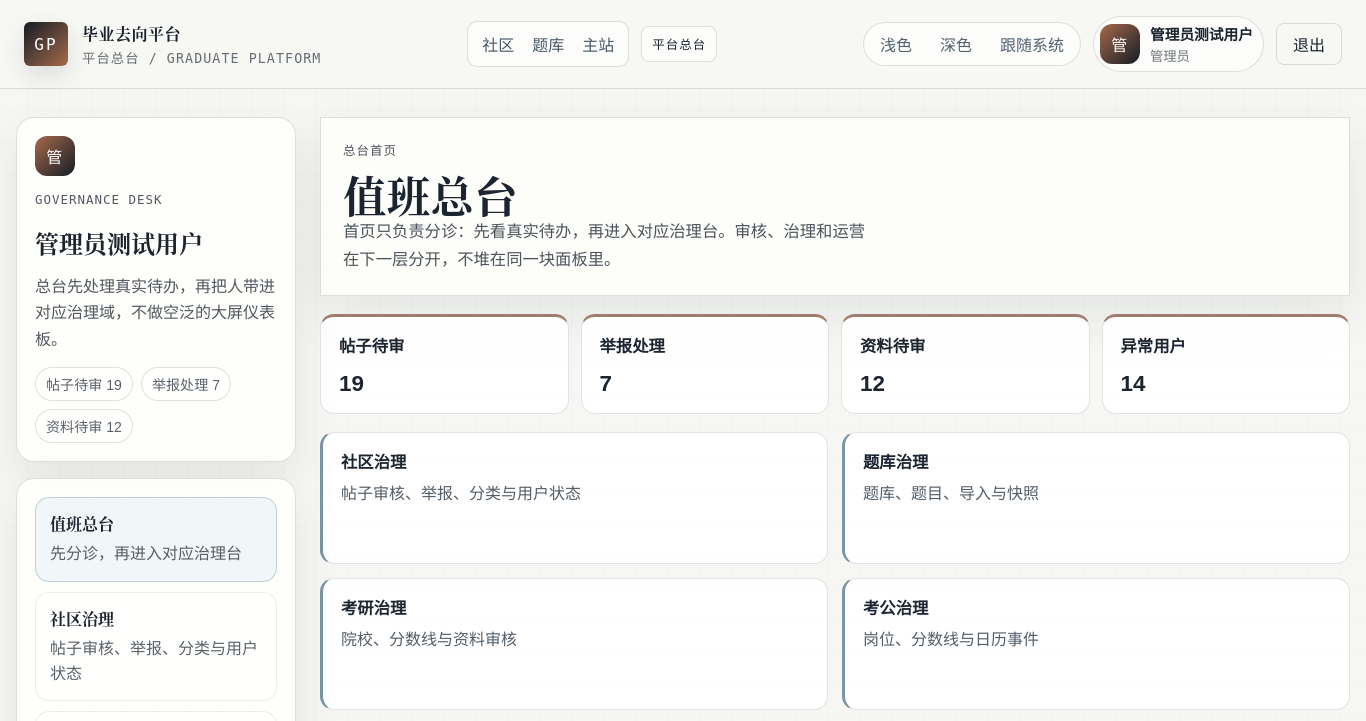
Test: frontendv1 role auth dialog flow › returns to the guest station after clicking logout from a preview role
Step 1. Click the button "退出" → (1309, 44), box 1276,23 -> 1342,65
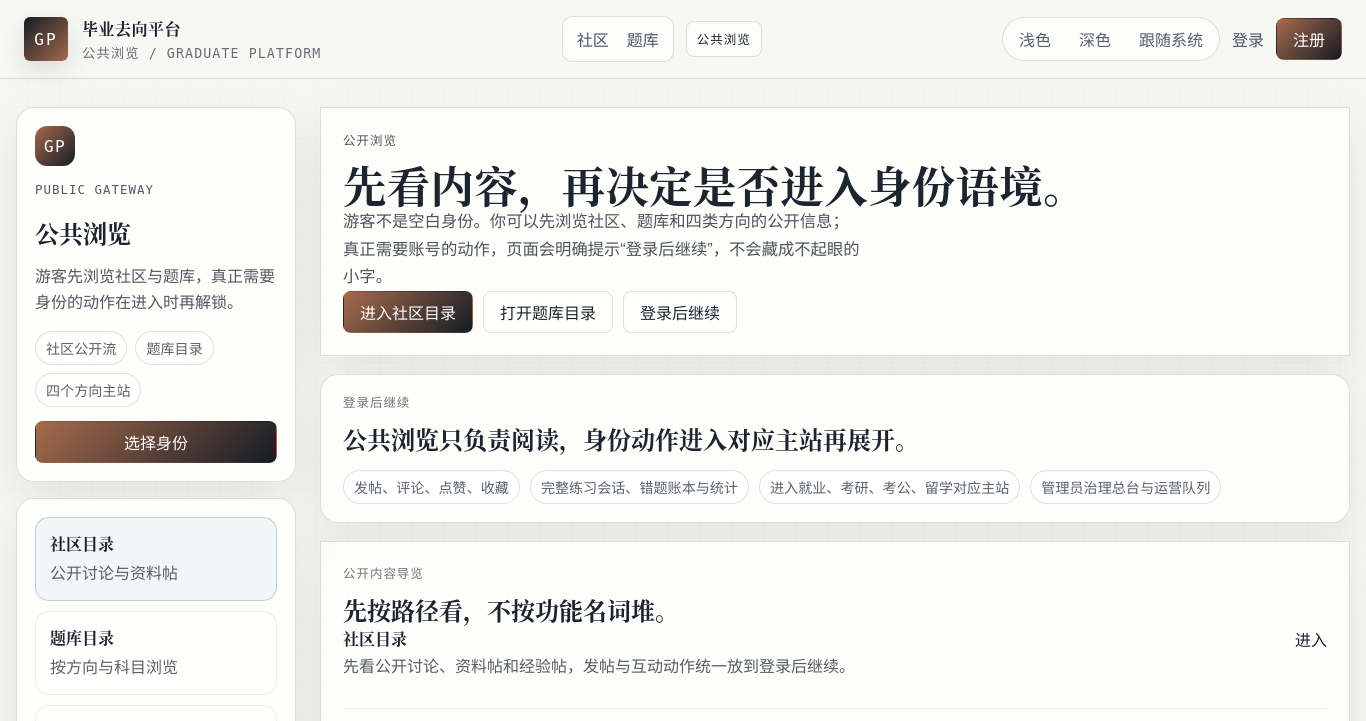
Expected: the heading "先看内容，再决定是否进入身份语境。" is shown, 343,153 -> 1087,215
